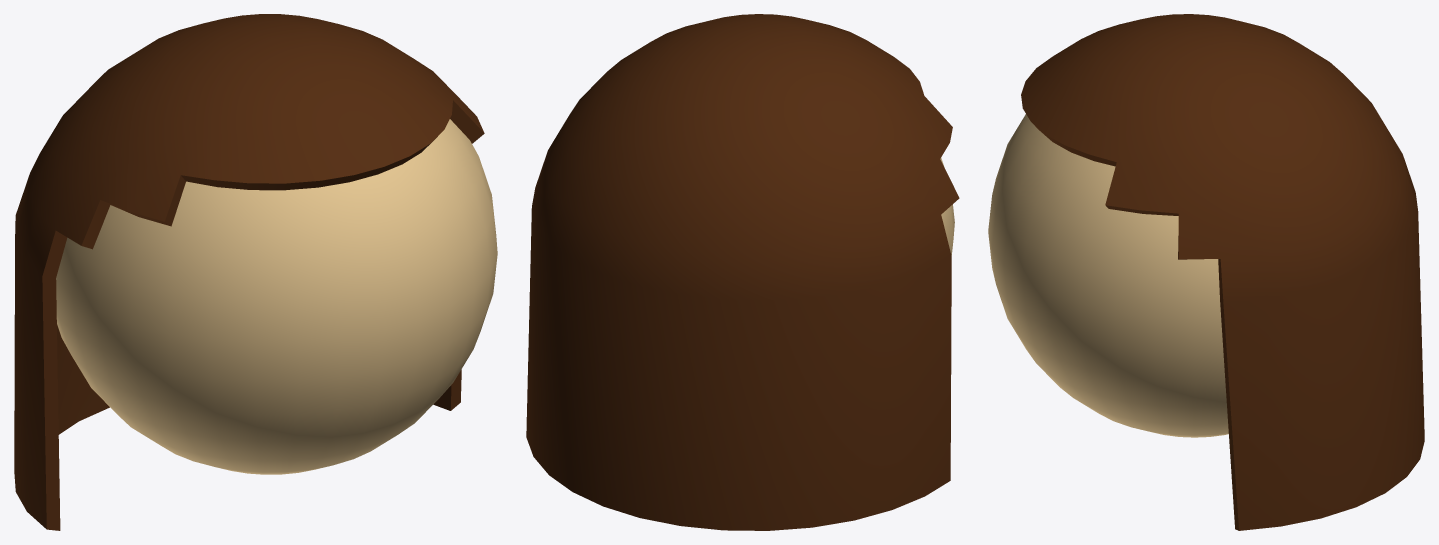
Rendered from CharacterHead_05.FBX.
3 renders of one model, left to right at view 1: azimuth 30°, elevation 25°; view 2: azimuth 150°, elevation 25°; view 3: azimuth 270°, elevation 25°, orthographic. The views are drawn at different scales.
Parts seen in each view (by area): view 1: Character_Head04; view 2: Character_Head04; view 3: Character_Head04.
Part boxes in pixels (x1,y1,x2,y2): Character_Head04: (14, 14, 497, 530); Character_Head04: (526, 14, 959, 530); Character_Head04: (988, 14, 1424, 530).
Size of the model in its own units: 63.16 by 61.46 by 59.79.
